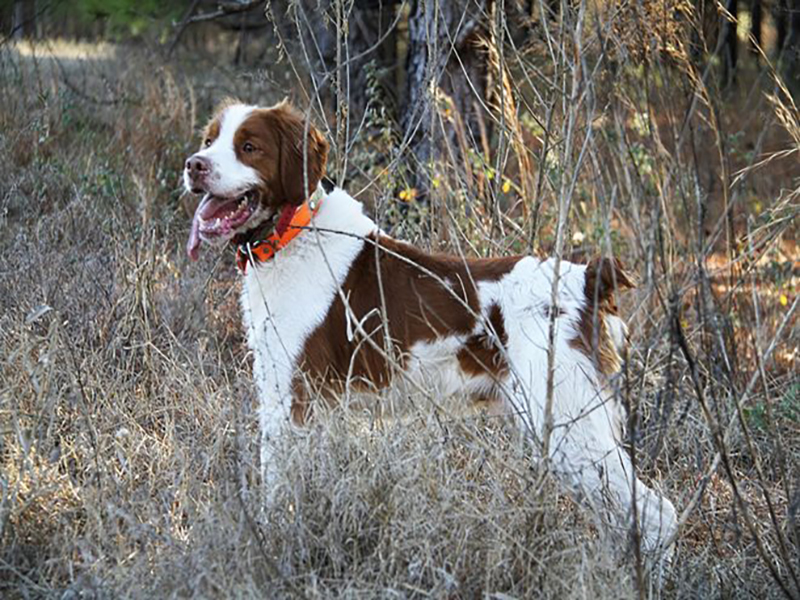cane da caccia: (184, 99, 674, 546)
